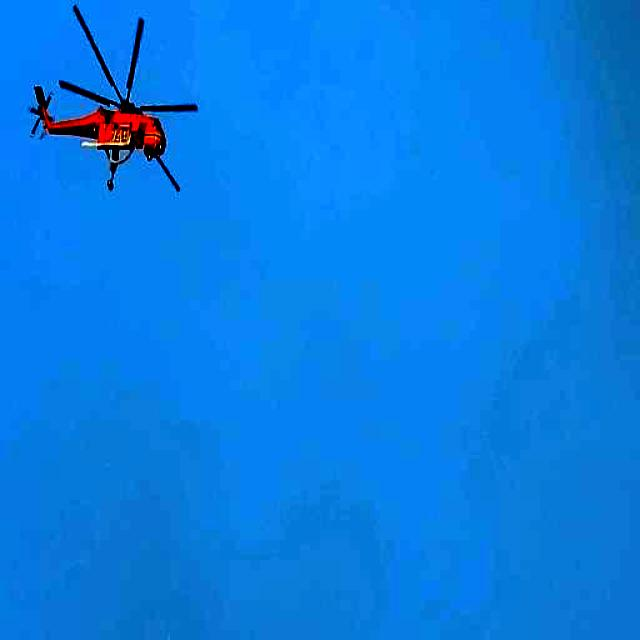drone: (26, 0, 201, 230)
